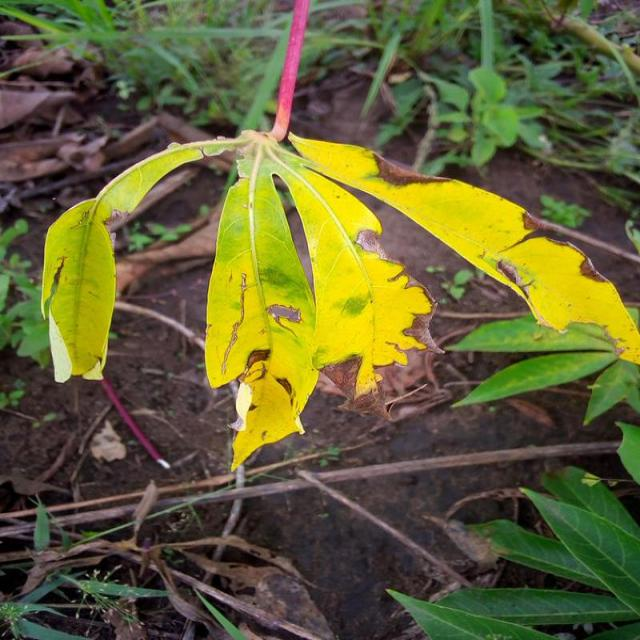cassava leaf: (39, 3, 638, 473), (286, 130, 640, 366)
